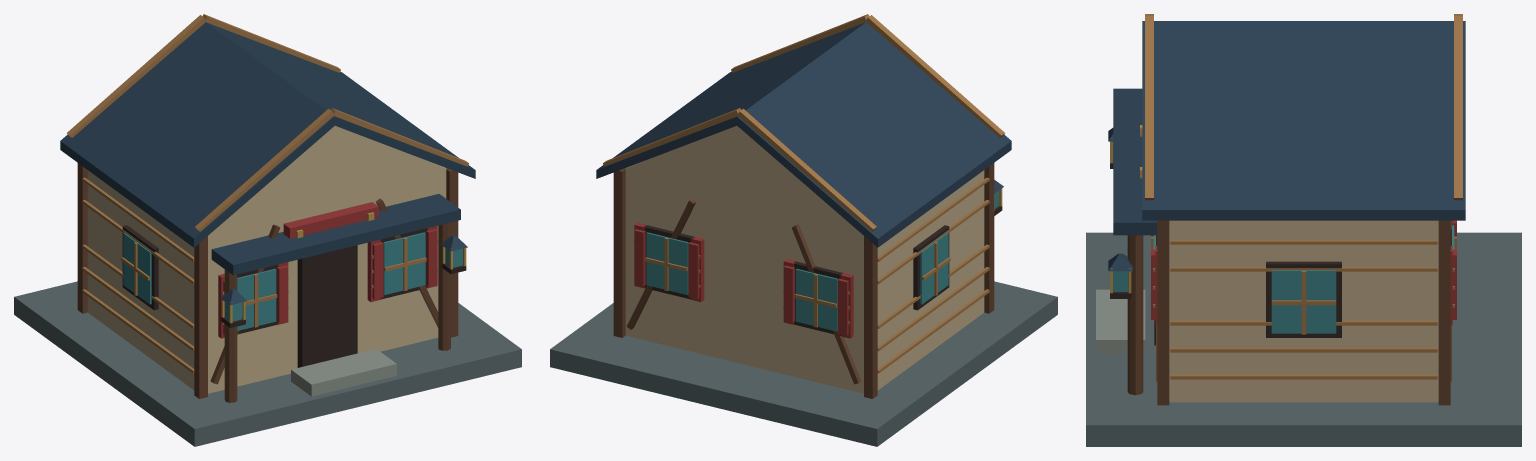
Rendered from PirateCove_HarborTavern_Showcase.glb.
3 renders of one model, left to right at view 1: azimuth 30°, elevation 25°; view 2: azimuth 150°, elevation 25°; view 3: azimuth 270°, elevation 25°, orthographic. The views are drawn at different scales.
Visible parts, largest first — view 1: PirateCove_HarborTavern_Showcase; view 2: PirateCove_HarborTavern_Showcase; view 3: PirateCove_HarborTavern_Showcase.
Part boxes in pixels (left/top/right/bottom): PirateCove_HarborTavern_Showcase: left=14, top=14, right=521, bottom=446; PirateCove_HarborTavern_Showcase: left=550, top=14, right=1057, bottom=446; PirateCove_HarborTavern_Showcase: left=1086, top=14, right=1521, bottom=446.
Bounding box in the file's own units: 4.6 × 3.74 × 4.4.
